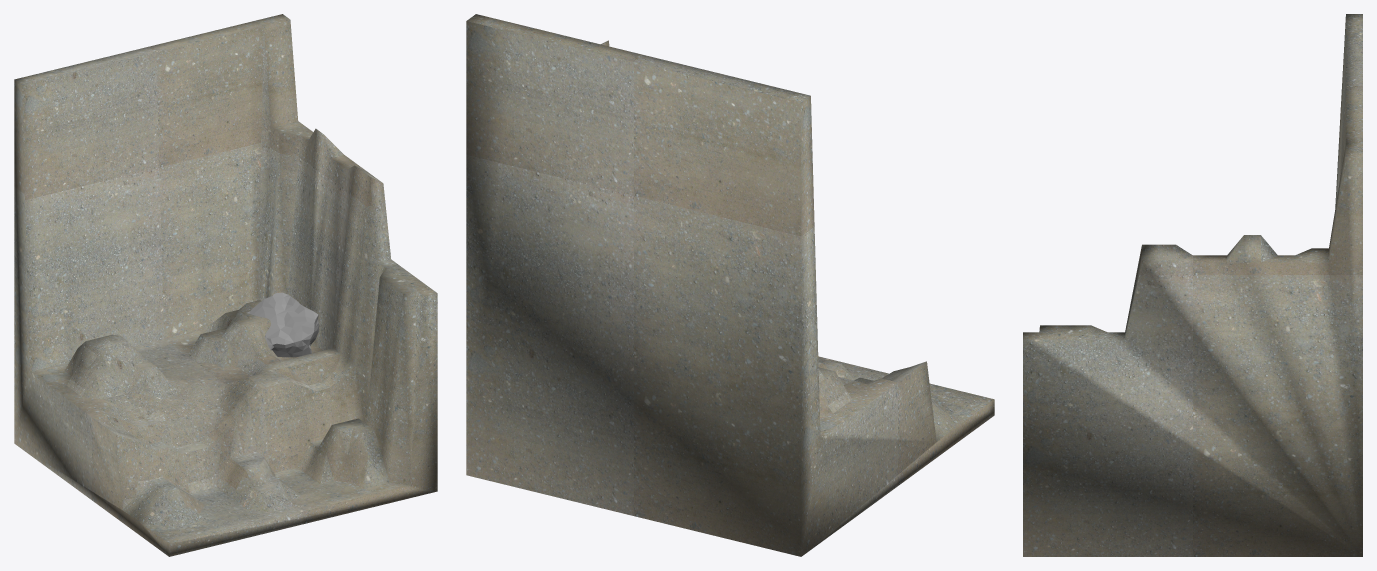
Rendered from right.fbx.
3 views of the same model, side by side, from view 1: azimuth 30°, elevation 25°; view 2: azimuth 150°, elevation 25°; view 3: azimuth 270°, elevation 25° (orthographic). The views are drawn at different scales.
Visible parts, largest first — view 1: Model, skp59B9_1; view 2: Model; view 3: Model.
Part boxes in pixels (bbox=[...]): Model: bbox=[14, 14, 437, 556]; skp59B9_1: bbox=[246, 292, 319, 357]; Model: bbox=[466, 14, 994, 556]; Model: bbox=[1023, 14, 1362, 556].
Size of the model in its own units: 1000 by 1319 by 1000.
